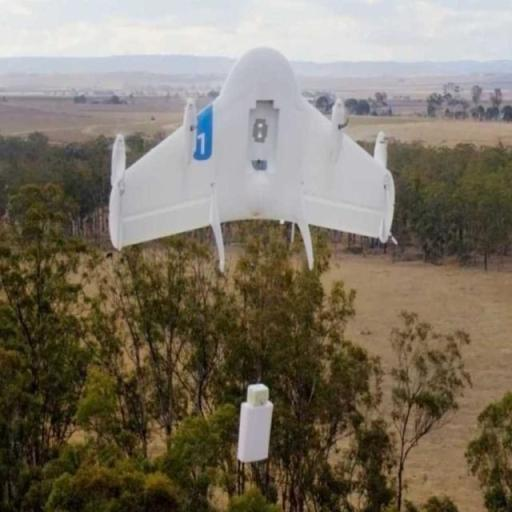uav: (102, 46, 400, 292)
